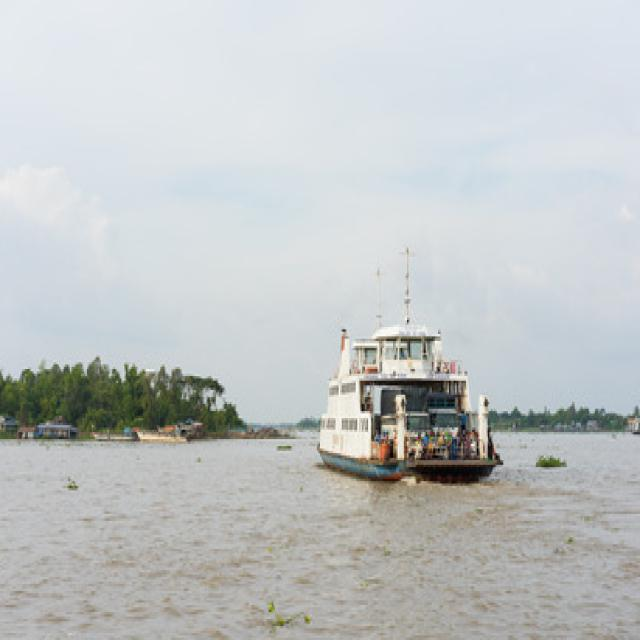cargoship: (298, 271, 500, 474)
